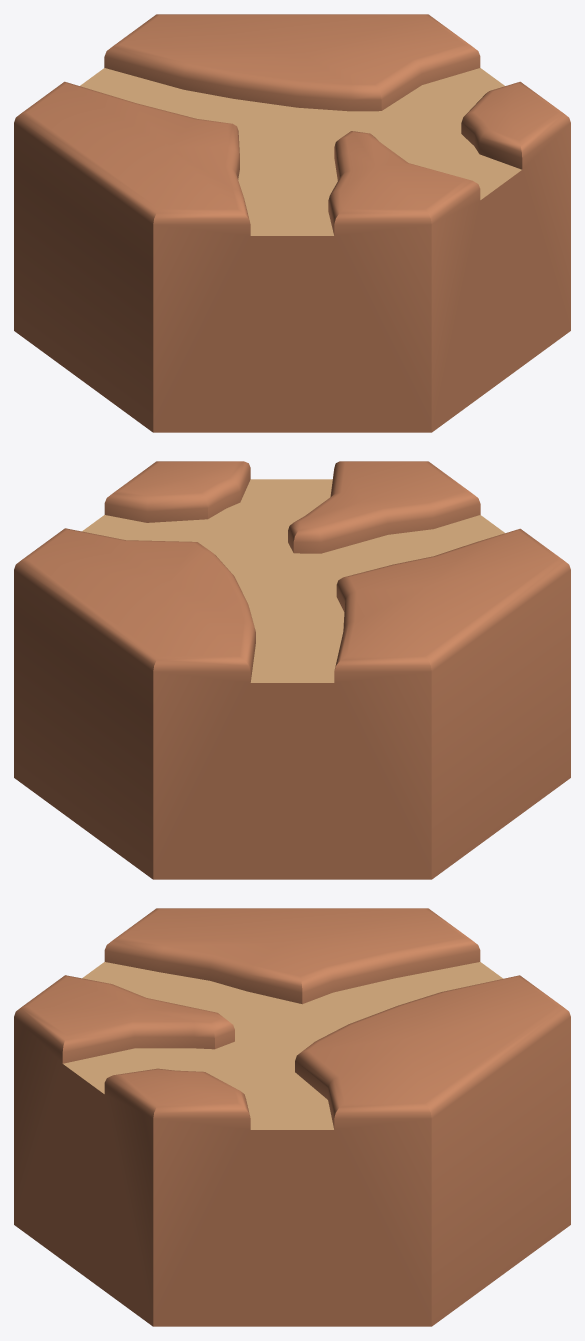
The model's file is hex_rock_roadi.glb.
The picture shows the model from 3 angles, top to bottom: view 1: azimuth 30°, elevation 25°; view 2: azimuth 150°, elevation 25°; view 3: azimuth 270°, elevation 25°; orthographic projection.
Parts seen in each view (by area): view 1: hex_rock_roadI; view 2: hex_rock_roadI; view 3: hex_rock_roadI.
Part boxes in pixels (x1,y1,x2,y2): hex_rock_roadI: [14, 14, 570, 432]; hex_rock_roadI: [14, 461, 570, 879]; hex_rock_roadI: [14, 908, 570, 1326].
Bounding box in the file's own units: 8 × 4 × 9.24.
